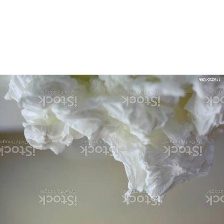tissue: (99, 75, 224, 210), (0, 74, 116, 159)
